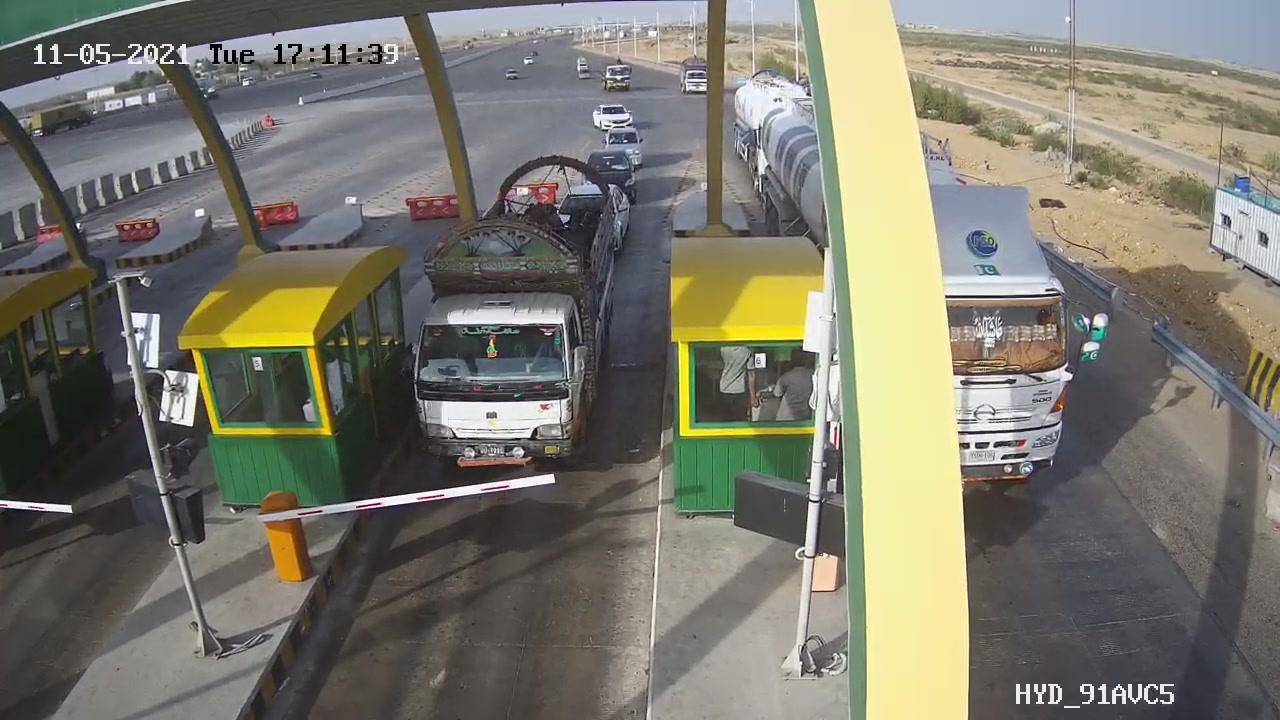F5: (390, 146, 644, 491)
